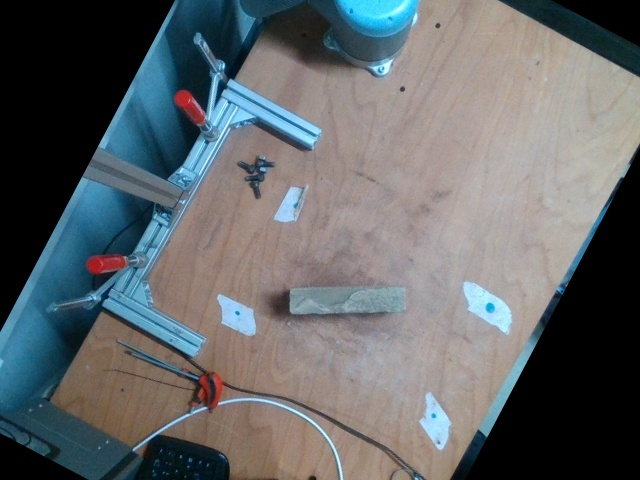brick-side: (289, 290, 405, 312)
